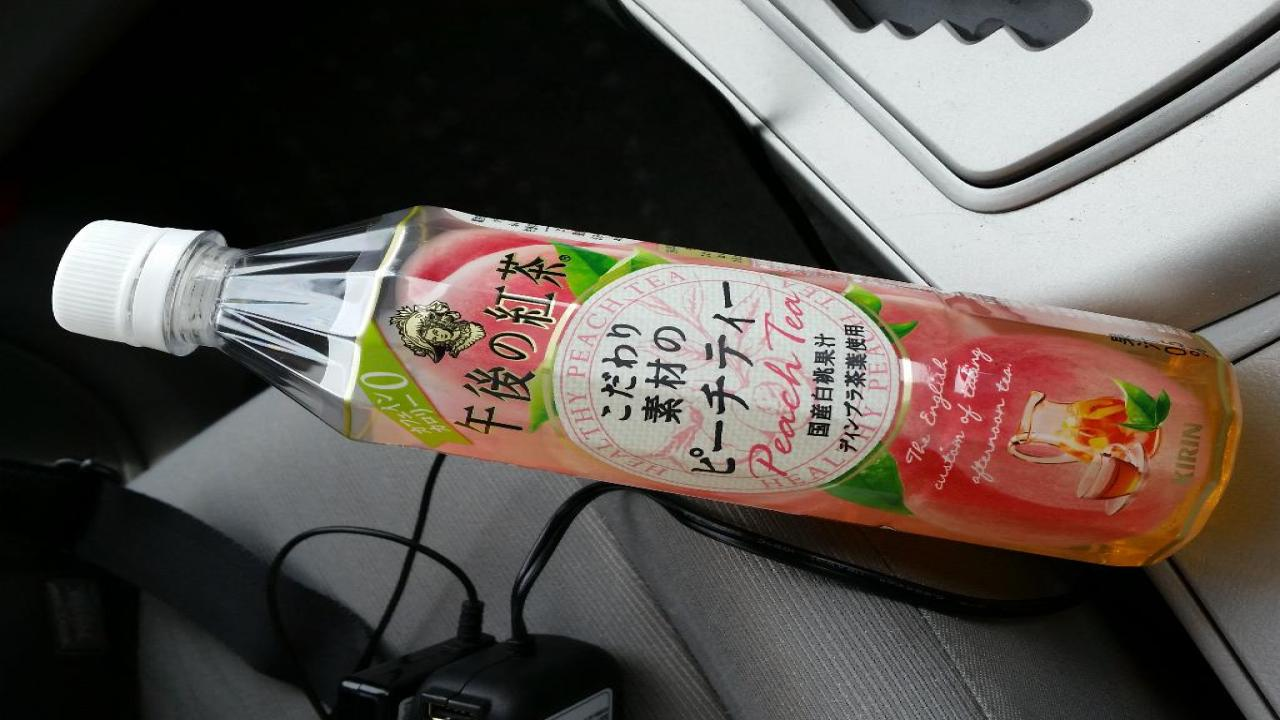bottle_cap: (46, 216, 160, 348)
